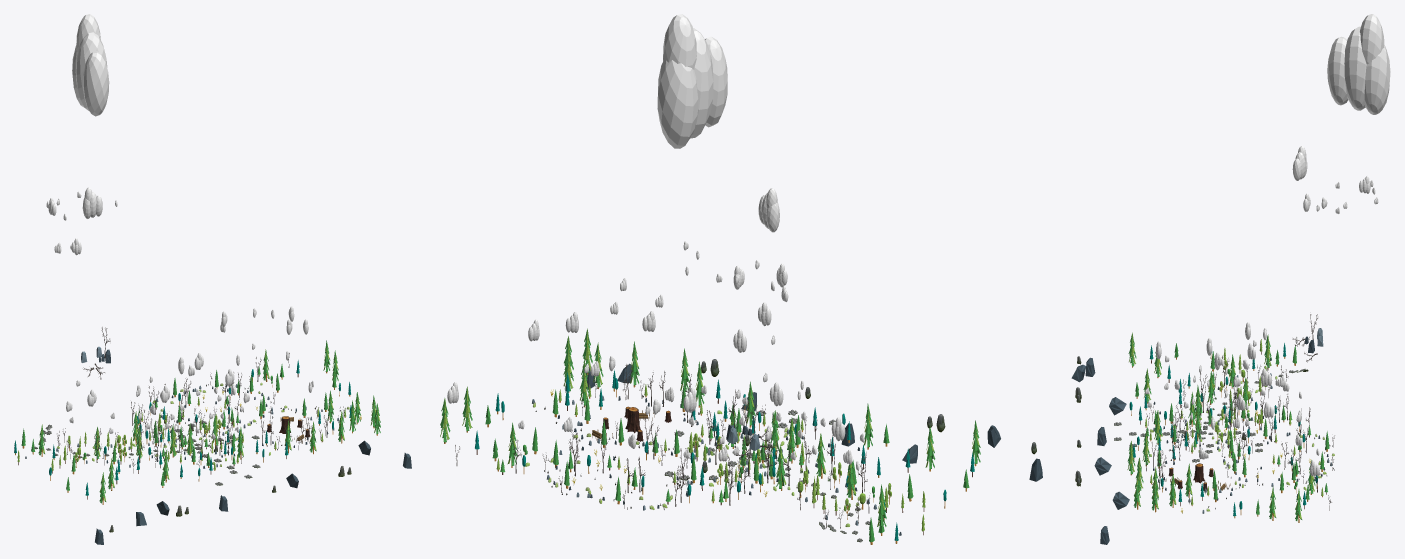
File: ObjetosUR.glb
The picture shows the model from 3 angles, left to right: view 1: azimuth 30°, elevation 25°; view 2: azimuth 150°, elevation 25°; view 3: azimuth 270°, elevation 25°; orthographic projection. The views are drawn at different scales.
Visible parts, largest first — view 1: group601634601.076, group601634601.073; view 2: group601634601.076, group601634601.073; view 3: group601634601.076, group601634601.073.
Part boxes in pixels (x1,y1,x2,y2): group601634601.076: (72,14,109,116); group601634601.073: (82,187,102,218); group601634601.076: (657,14,727,148); group601634601.073: (758,188,779,232); group601634601.076: (1327,14,1390,114); group601634601.073: (1292,146,1307,180).
Size of the model in its own units: 53.48 by 62.58 by 42.14.
Materials: 18 (8 with a texture image).
